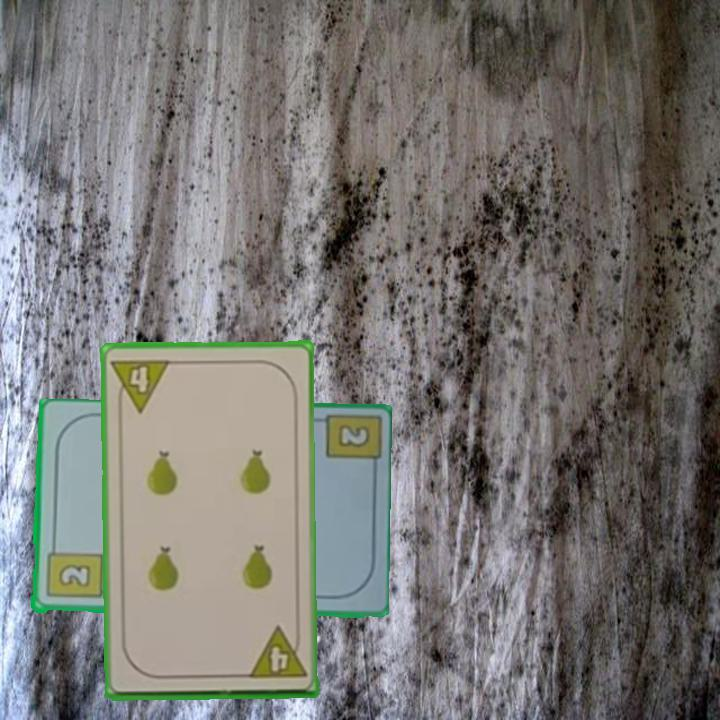2b: (43, 540, 104, 601), (334, 421, 373, 451)
4p: (108, 355, 173, 415), (244, 624, 309, 681)
